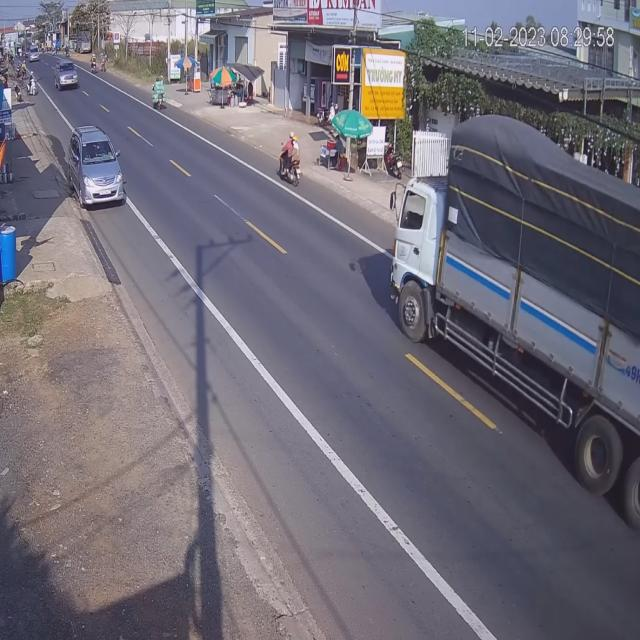car: (67, 125, 126, 209), (57, 60, 80, 92)
motorbike: (278, 134, 301, 190), (150, 78, 166, 116)
truck: (392, 116, 640, 538)
